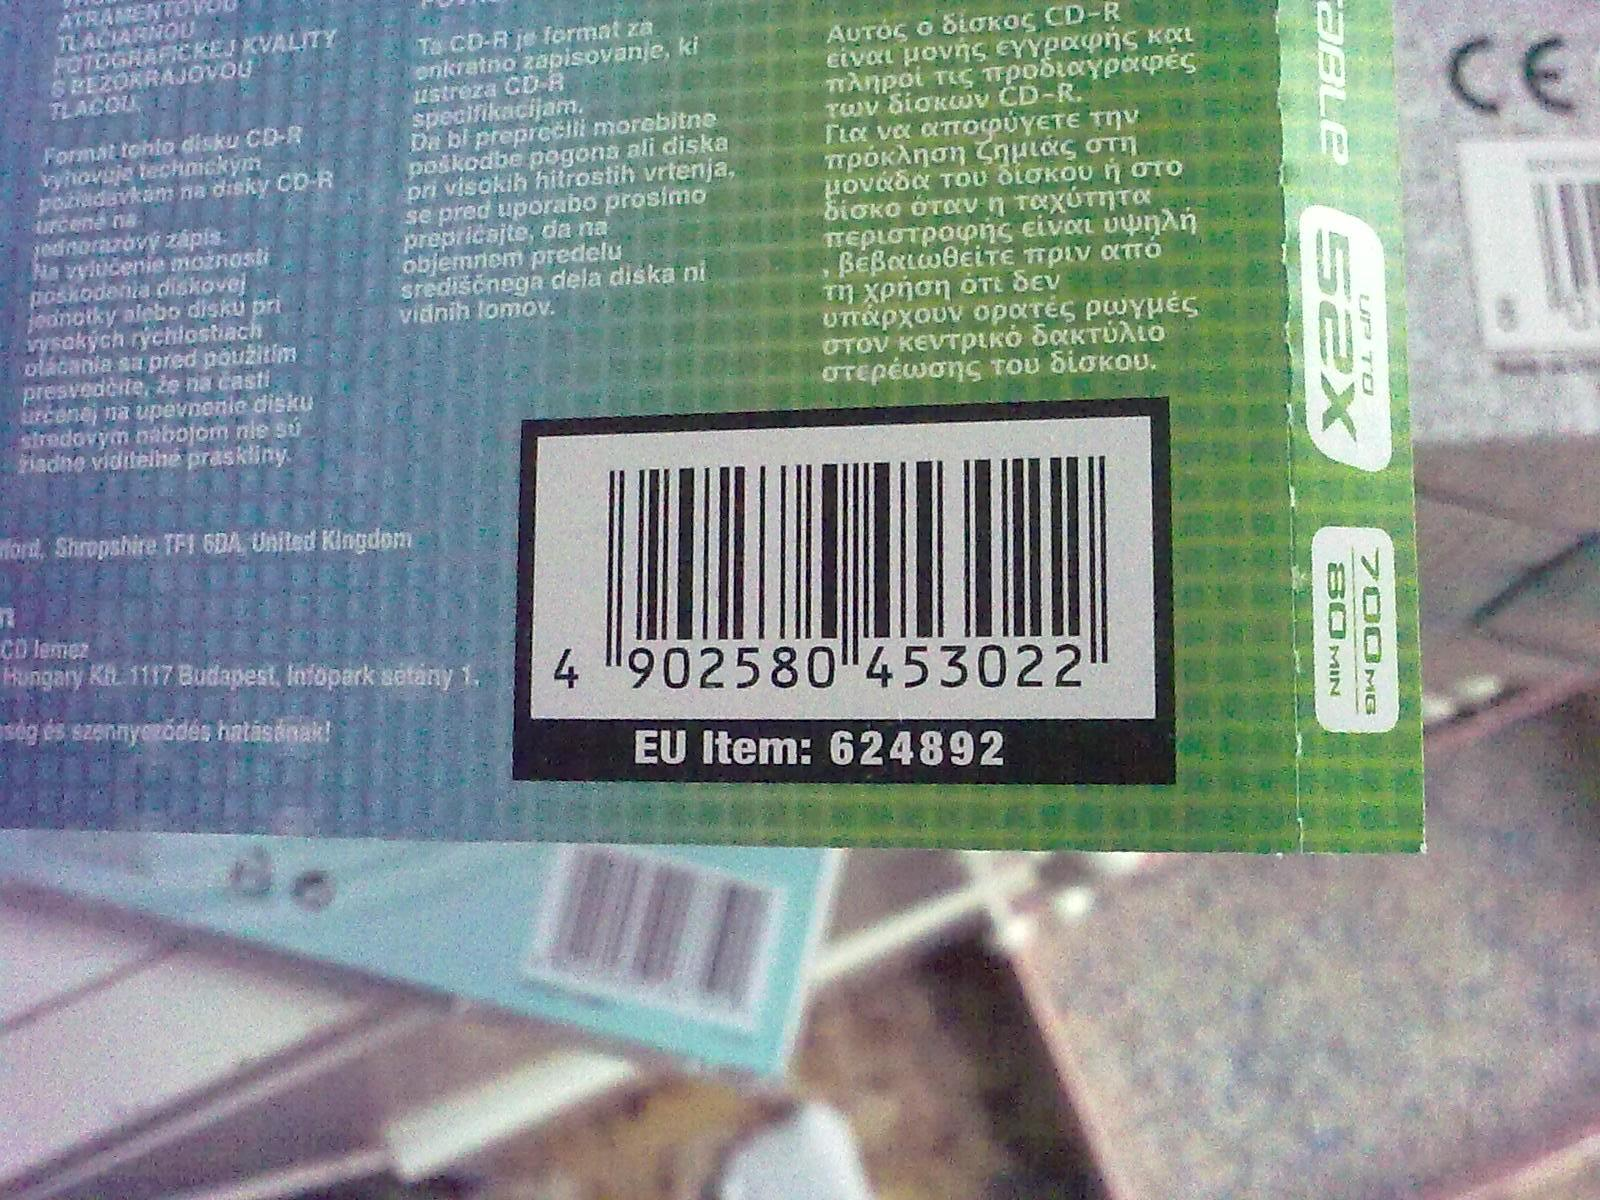Barcode: (514, 398, 1178, 729)
